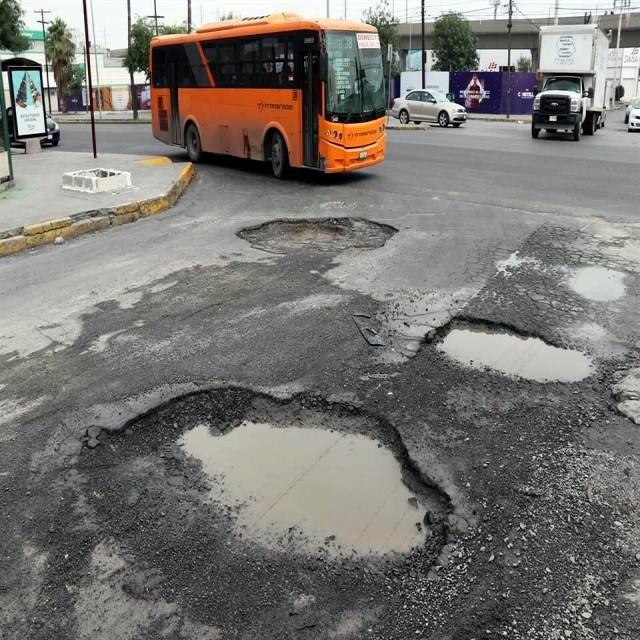Pothole: (75, 364, 468, 620), (423, 292, 607, 424), (209, 199, 428, 281)
